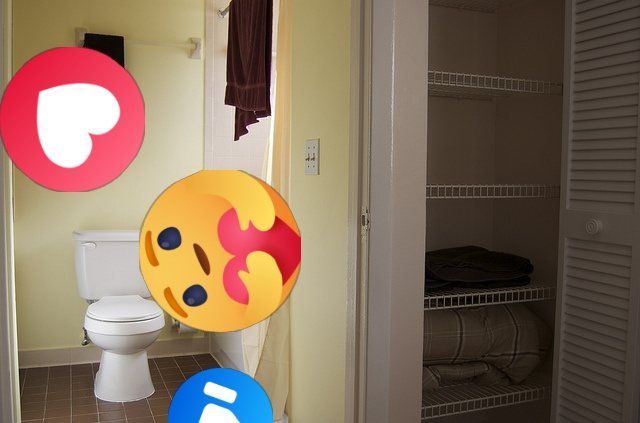care: (139, 170, 301, 332)
like: (168, 368, 273, 423)
love: (0, 47, 145, 192)
